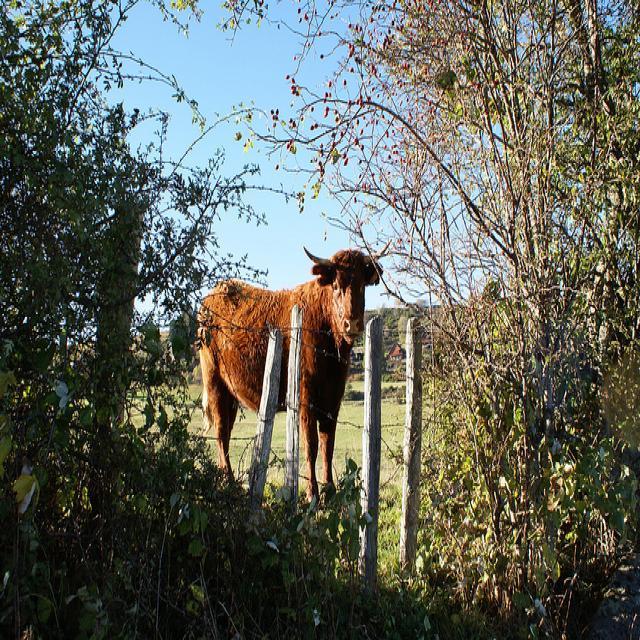cow: (197, 244, 382, 502)
